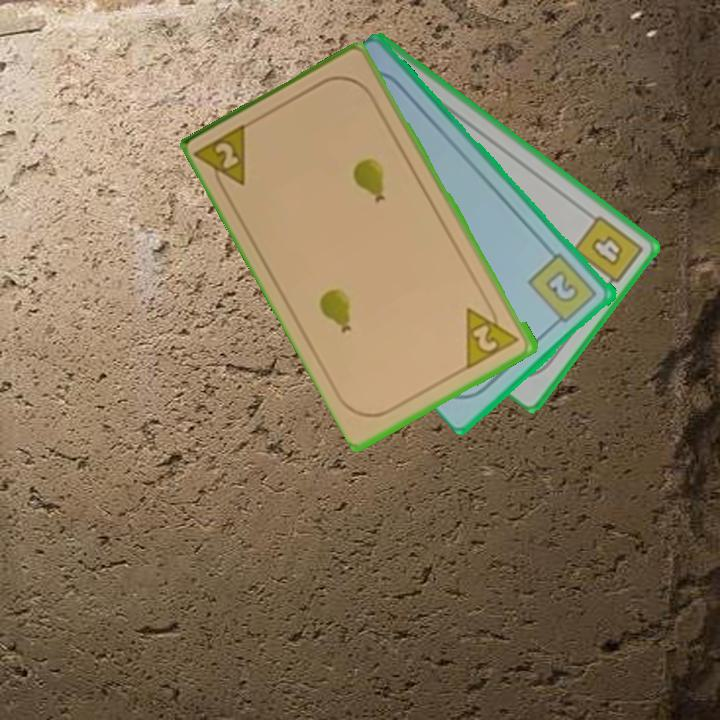2b: (525, 250, 601, 330)
2p: (193, 119, 253, 200), (462, 296, 524, 371)
4b: (570, 211, 646, 294)
